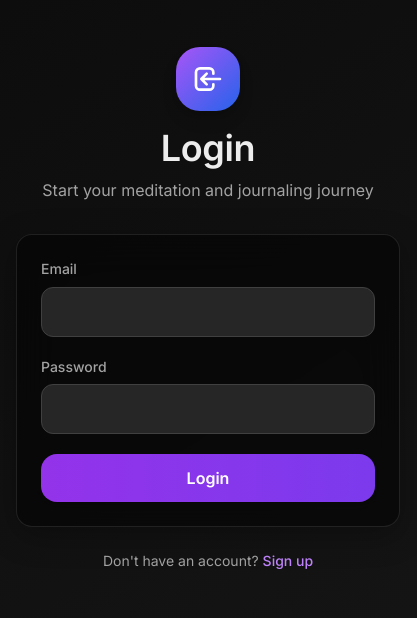
Scenario: AuthForm › バリデーション › パスワードが短すぎると検証エラーが表示される
Type "test@example.com" into the field labelled "Email". click: (208, 312)
box: [41,287,375,337]
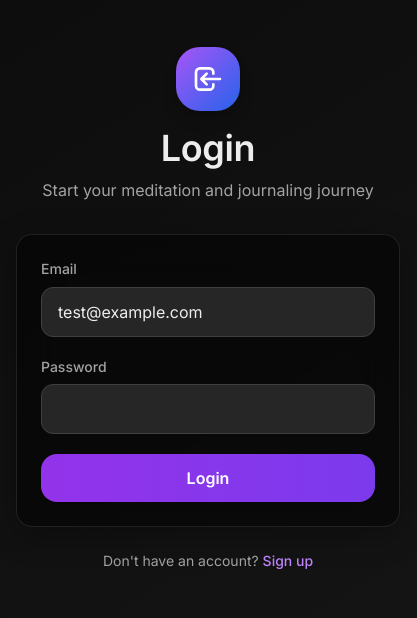
Type "1234567" into the password field labelled "Password". click: (208, 409)
box: [41,384,375,434]
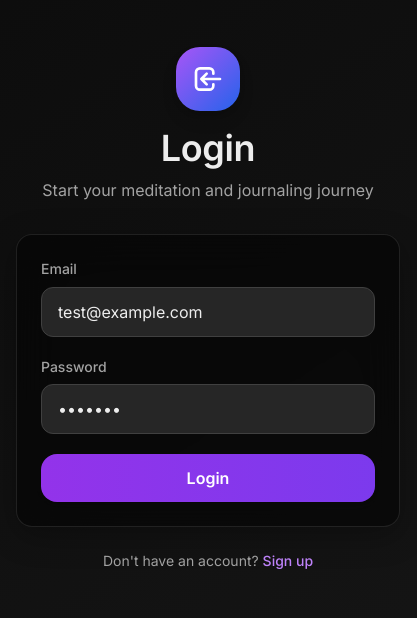
Click the button "Login". click: (208, 478)
box: [41,454,375,502]
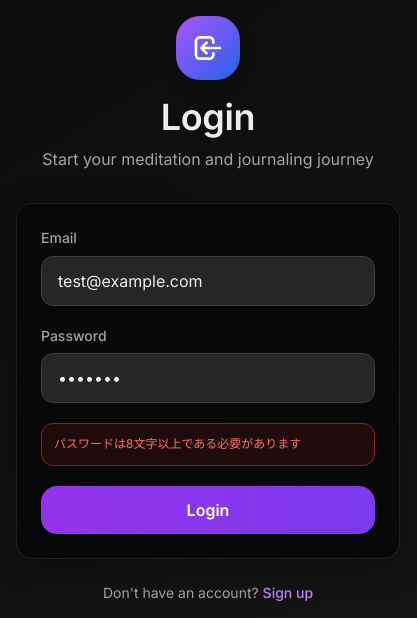
Result: the text "パスワードは8文字以上である必要があります" is shown at [54,436,301,451]
